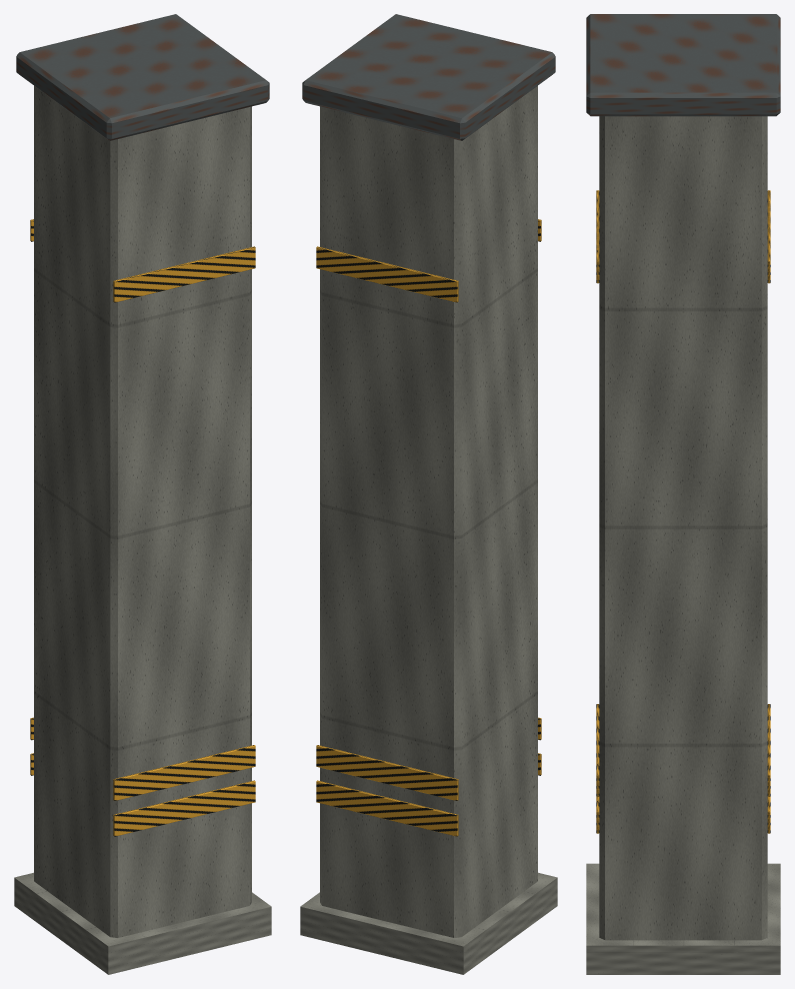
Rendered from landmark_pillar.glb.
3 renders of one model, left to right at view 1: azimuth 30°, elevation 25°; view 2: azimuth 150°, elevation 25°; view 3: azimuth 270°, elevation 25°, orthographic. The views are drawn at different scales.
Parts seen in each view (by area): view 1: landmark_pillar; view 2: landmark_pillar; view 3: landmark_pillar.
Boxes of the visible parts, box(x1,y1,x2,y2) form: landmark_pillar: box(14, 14, 271, 974); landmark_pillar: box(300, 14, 557, 974); landmark_pillar: box(586, 14, 780, 974).
Size of the model in its own units: 1.2 by 6 by 1.2.
Materials: 1 (1 with a texture image).
